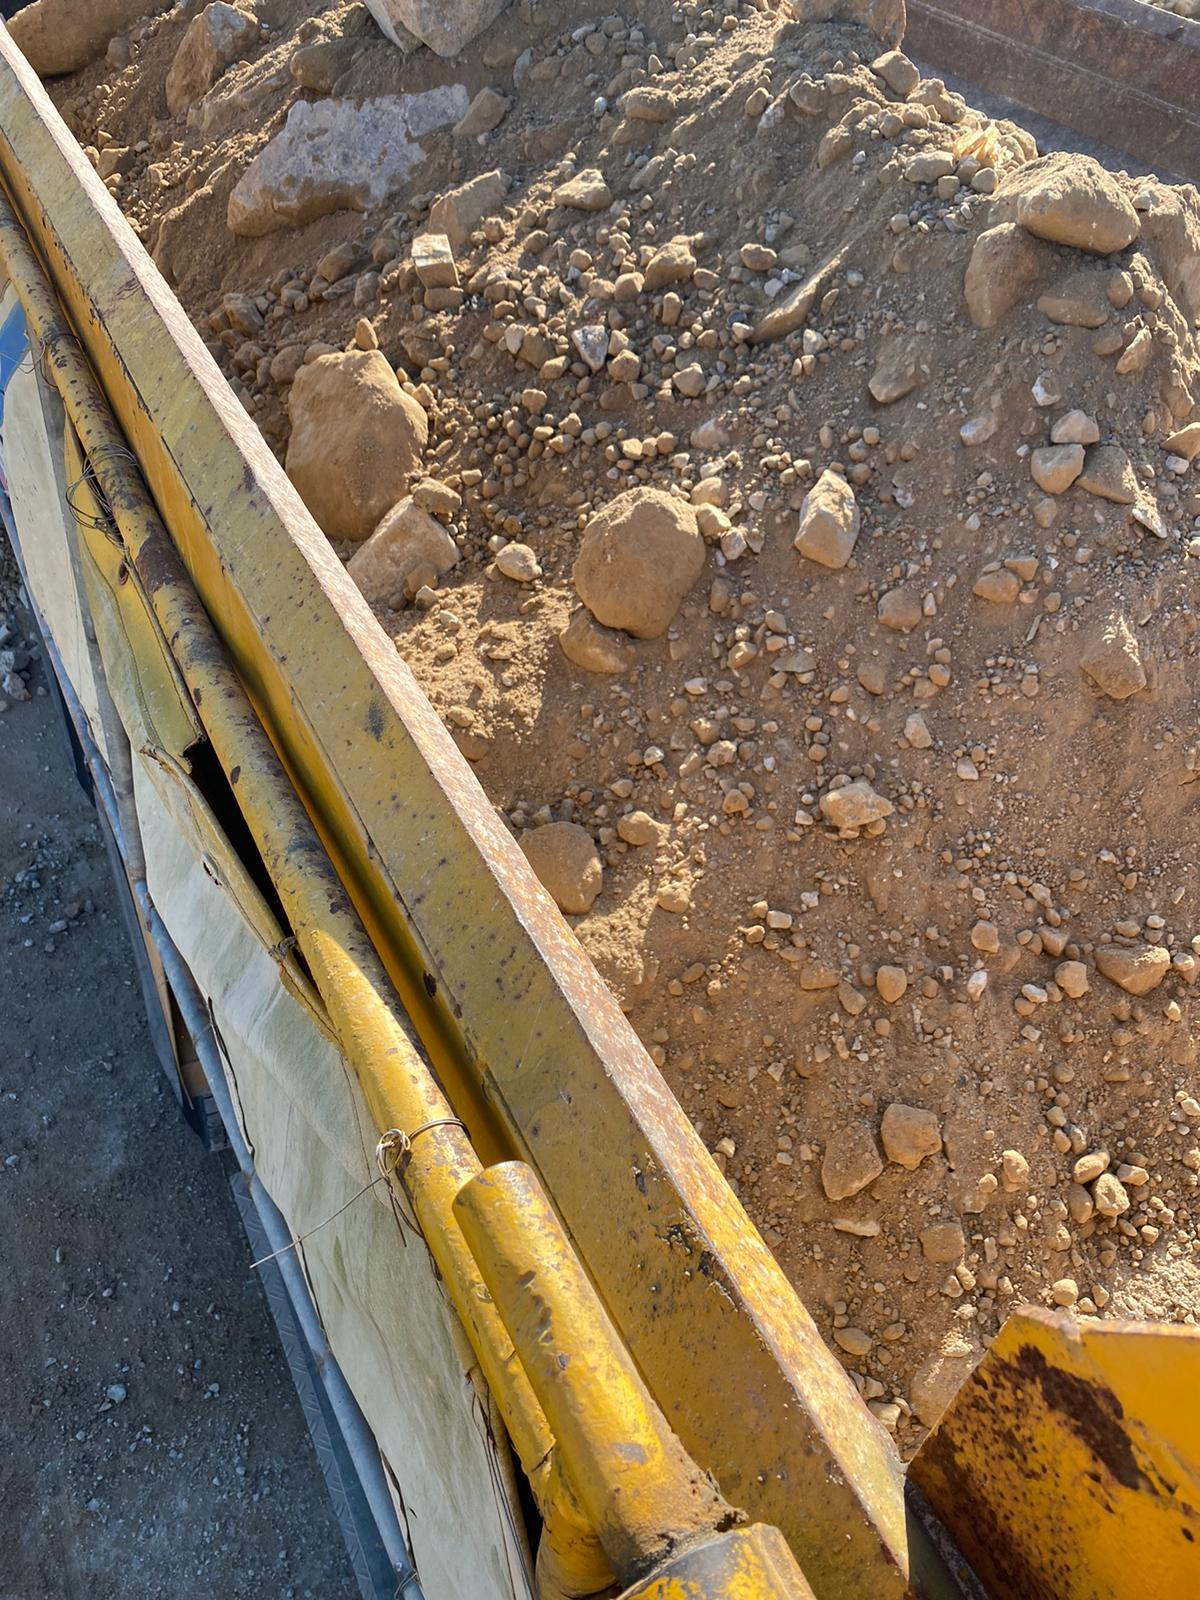dry: (25, 30, 1200, 1427)
